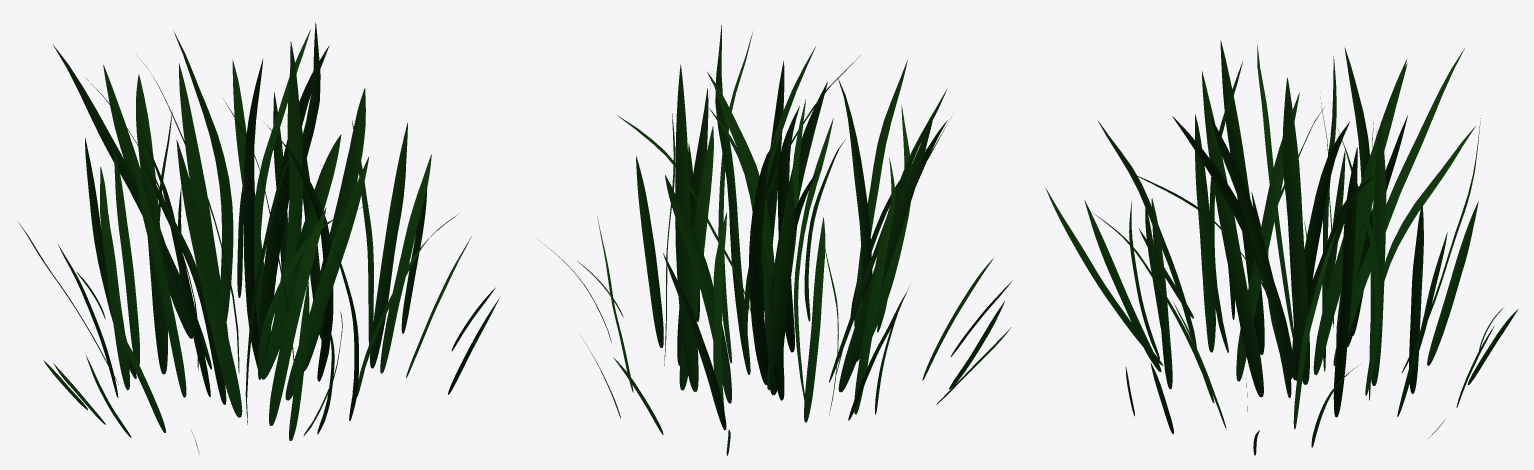
The picture shows the model from 3 angles, left to right: view 1: azimuth 30°, elevation 25°; view 2: azimuth 150°, elevation 25°; view 3: azimuth 270°, elevation 25°; orthographic projection. The views are drawn at different scales.
Visible parts, largest first — view 1: SM_UmbS_Bullrush_03_LOD0; view 2: SM_UmbS_Bullrush_03_LOD0; view 3: SM_UmbS_Bullrush_03_LOD0.
Part boxes in pixels (x1=…): SM_UmbS_Bullrush_03_LOD0: x1=18, y1=22, x2=499, y2=454; SM_UmbS_Bullrush_03_LOD0: x1=540, y1=25, x2=1012, y2=455; SM_UmbS_Bullrush_03_LOD0: x1=1045, y1=40, x2=1518, y2=455.
Size of the model in its own units: 1.11 by 0.8443 by 1.09.
1 material, 1 textured.
